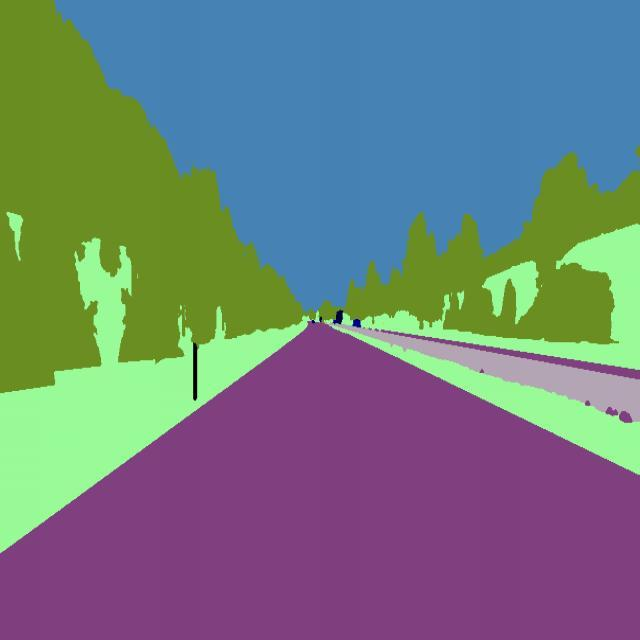safe: (349, 313, 364, 332)
